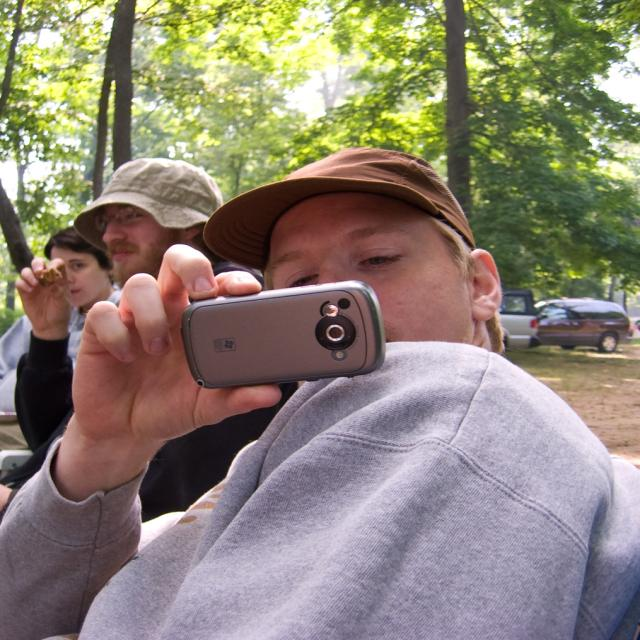Mobile-phone: (164, 280, 391, 394)
